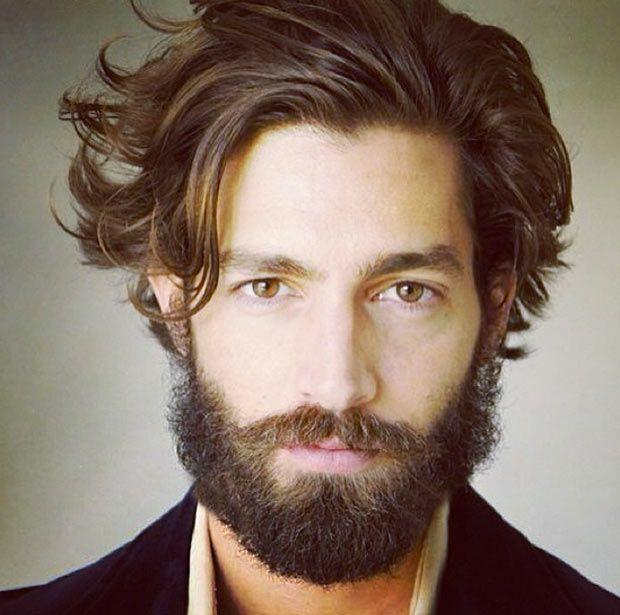barba: (163, 308, 512, 595)
face: (149, 137, 523, 559)
